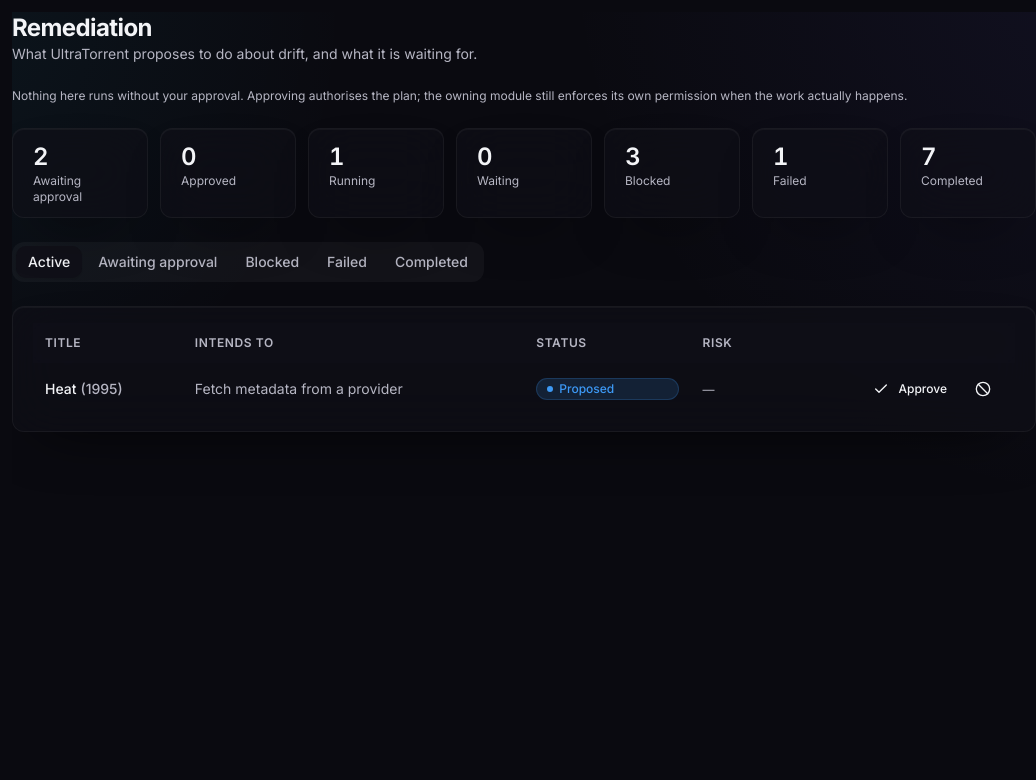
Test: the detail explains the plan rather than illustrating it › renders the real steps, naming the domain that owns the mutation
The width and height of the screenshot is (1036, 780).
Click the button "Heat": click(61, 389) x1=45 y1=379 x2=76 y2=399
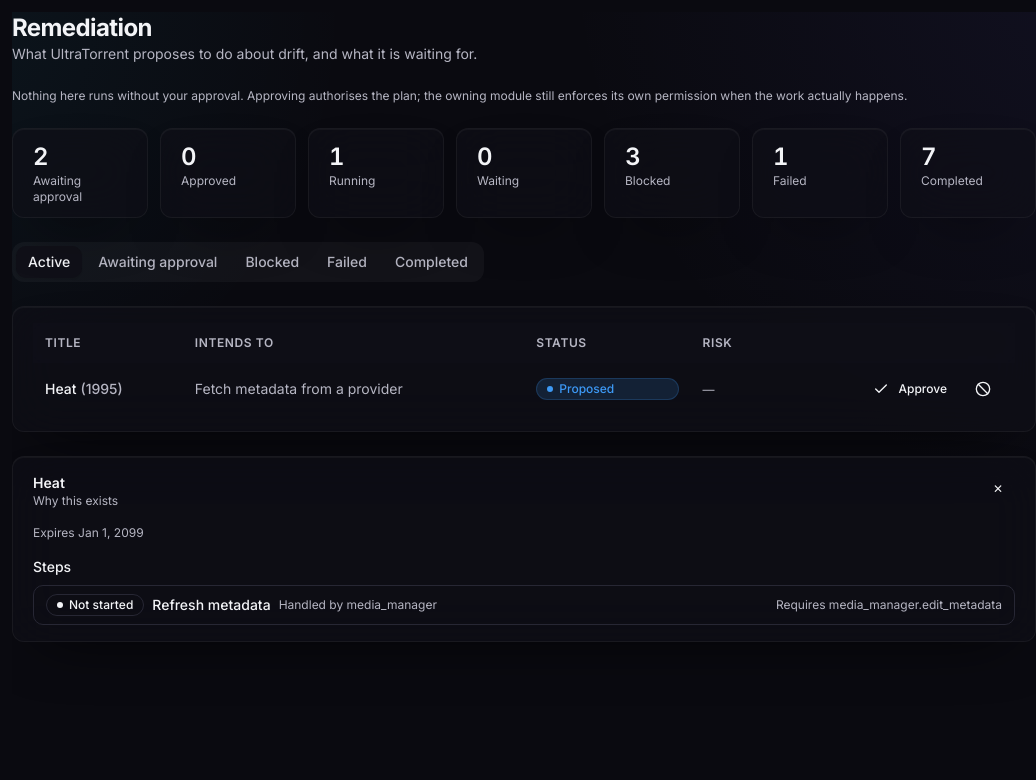
Expected: the text "Refresh metadata" is shown, x1=152 y1=595 x2=271 y2=615
Expected: the text "Handled by media_manager" is shown, x1=279 y1=597 x2=437 y2=613
